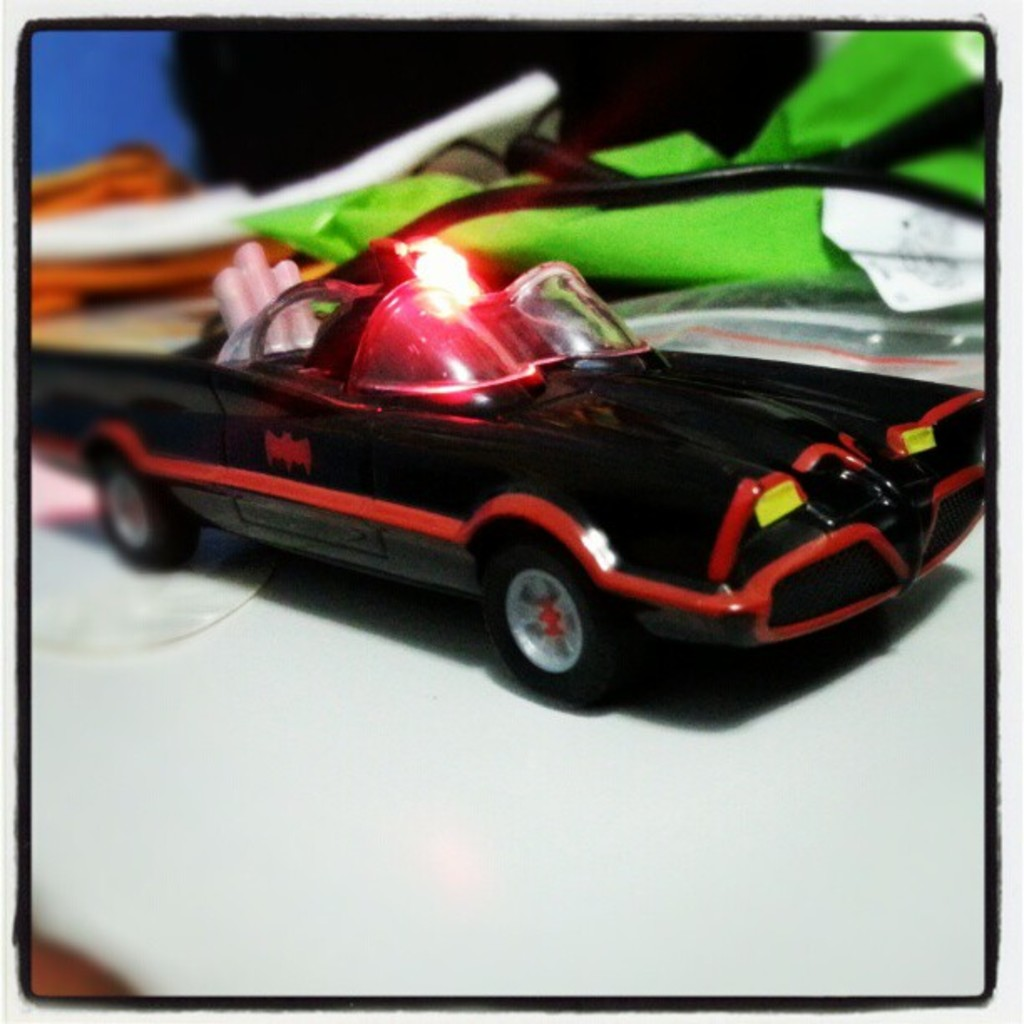Car: (76, 215, 1010, 697)
